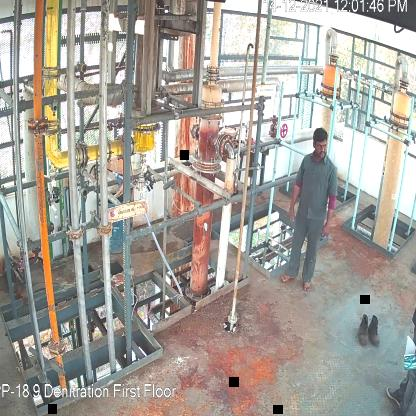no_shoes: (276, 262, 298, 288), (301, 272, 315, 298)
shoes: (370, 311, 383, 351), (358, 312, 370, 350)
